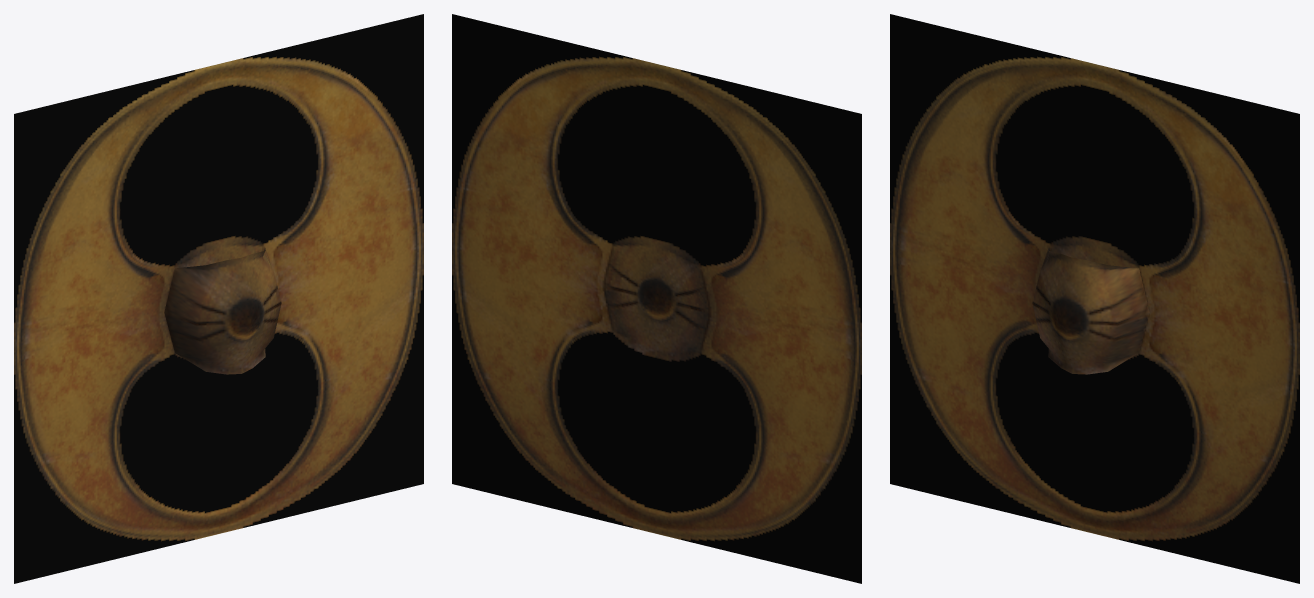
File: shield_oval_celtic_boss.glb
3 views of the same model, side by side, from view 1: azimuth 30°, elevation 25°; view 2: azimuth 150°, elevation 25°; view 3: azimuth 330°, elevation 25° (orthographic).
Parts seen in each view (by area): view 1: ShieldBoss; view 2: ShieldBoss; view 3: ShieldBoss.
Boxes of the visible parts, left/top/right/bottom form: ShieldBoss: left=14, top=14, right=423, bottom=583; ShieldBoss: left=452, top=14, right=861, bottom=583; ShieldBoss: left=890, top=14, right=1299, bottom=583.
Bounding box in the file's own units: 0.4802 × 0.5264 × 0.0629.
1 material, 1 textured.
